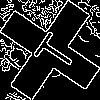T: (25, 25, 80, 76)
